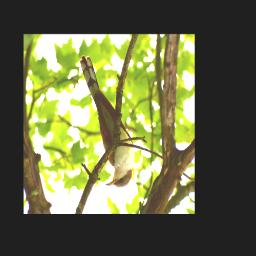Cuckoo: (80, 54, 135, 188)
